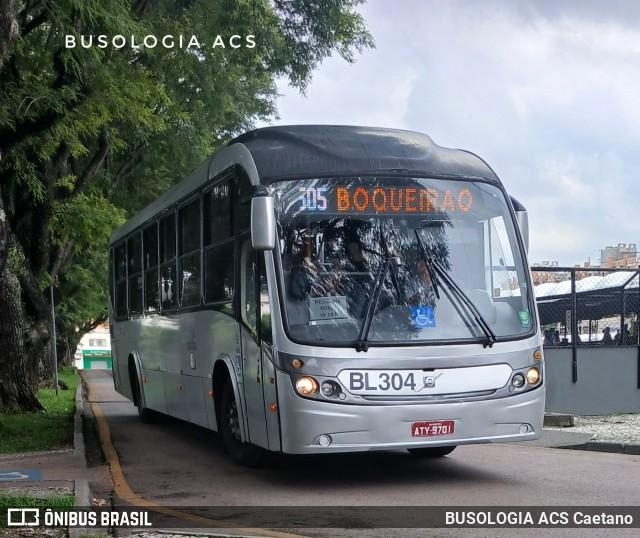BOQUEIRAO: (329, 184, 477, 219)
